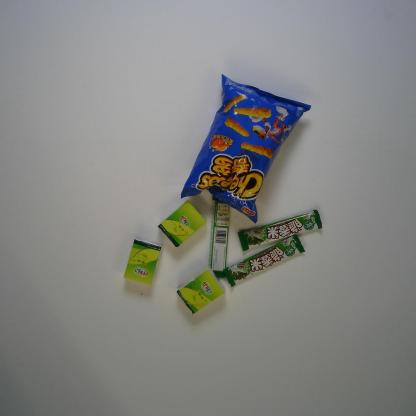Chocolate: (222, 233, 305, 289), (236, 208, 324, 252), (207, 193, 231, 280)
Puffed Food: (180, 73, 314, 226)
Tissue: (176, 266, 228, 315), (156, 200, 208, 248), (122, 237, 164, 286)
